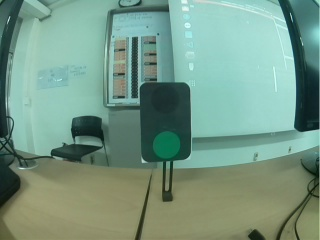green_light: (143, 86, 190, 161)
